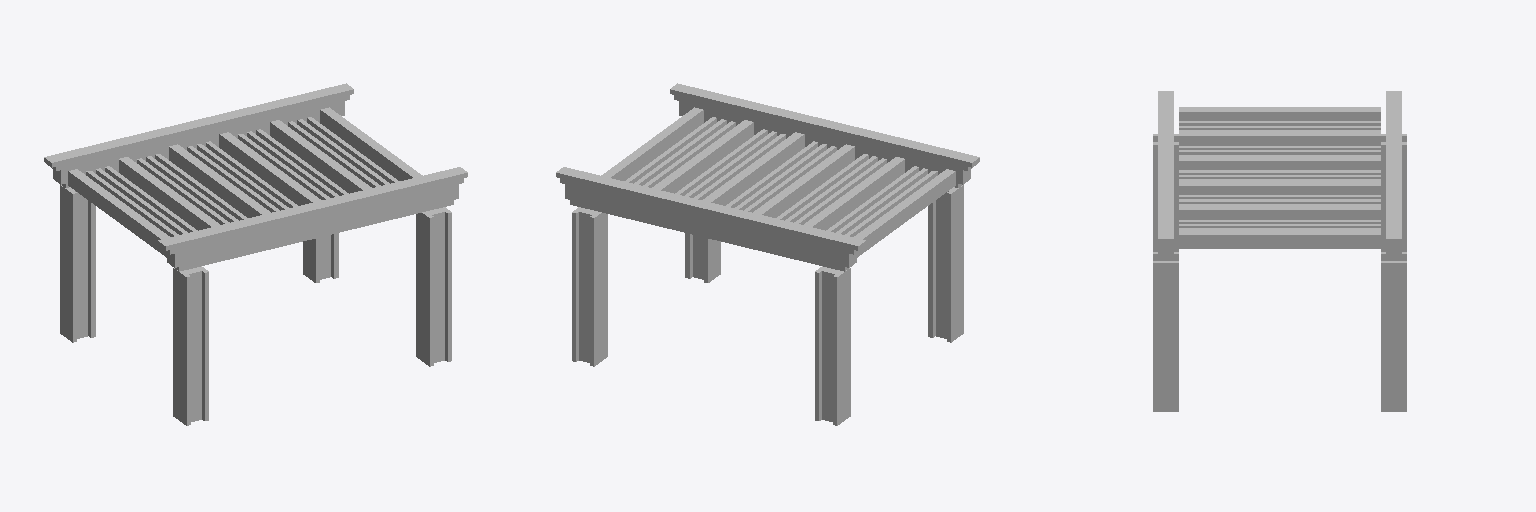
Rendered from CarPort.obj.
3 renders of one model, left to right at view 1: azimuth 30°, elevation 25°; view 2: azimuth 150°, elevation 25°; view 3: azimuth 270°, elevation 25°, orthographic.
Parts seen in each view (by area): view 1: object 1; view 2: object 1; view 3: object 1.
Part boxes in pixels (bbox=[...]): object 1: bbox=[44, 83, 467, 425]; object 1: bbox=[556, 83, 979, 425]; object 1: bbox=[1153, 91, 1406, 411].
Size of the model in its own units: 6.6 by 3.8 by 4.8.